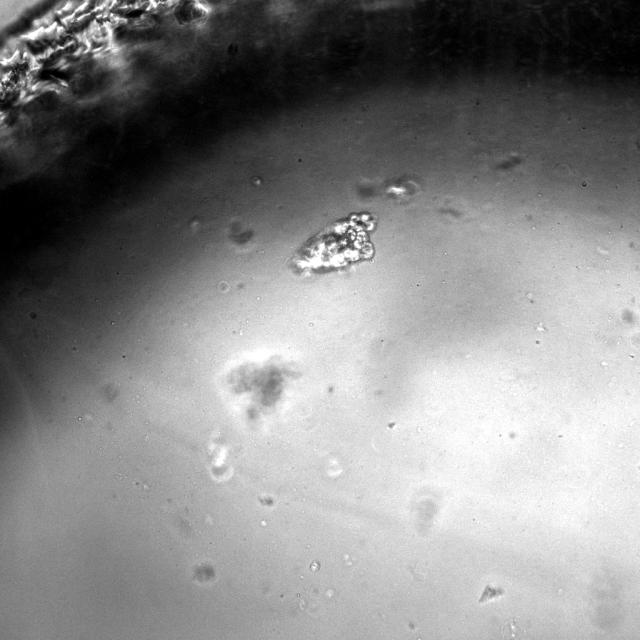organoid: (289, 211, 376, 275), (226, 355, 301, 419)
